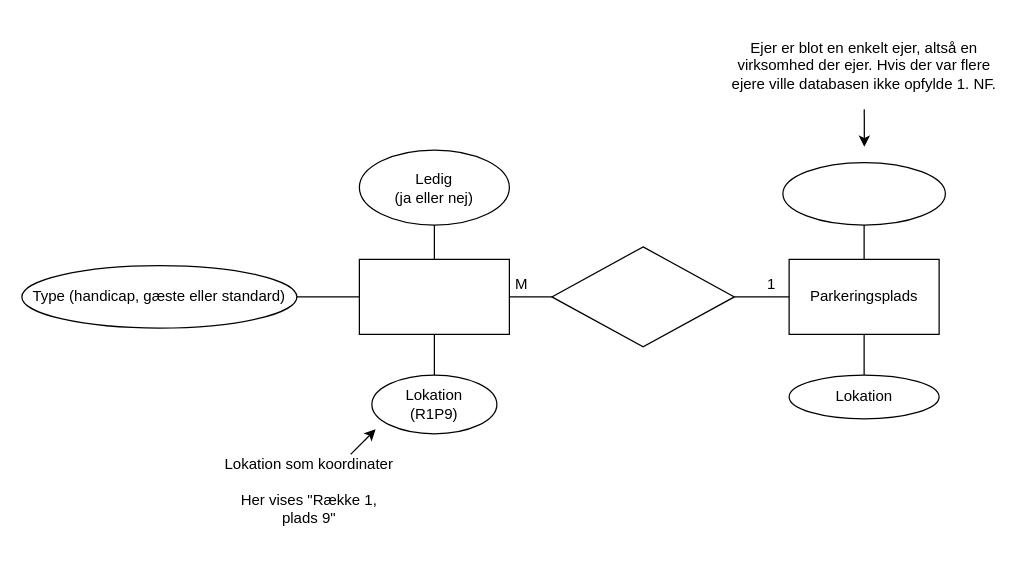
This 1030x570 diagram has some shape labels left out. Each missing label, with the box of its shape:
Ejer/ tilknyttet virksomhed: (782, 161, 945, 225)
Er en del af: (551, 246, 734, 347)
Parkeringsbås: (358, 258, 509, 334)
